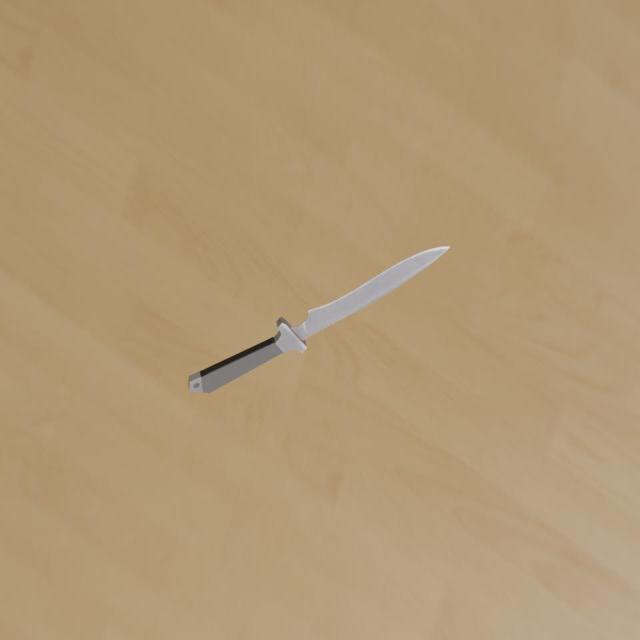knife: (189, 336, 283, 394)
